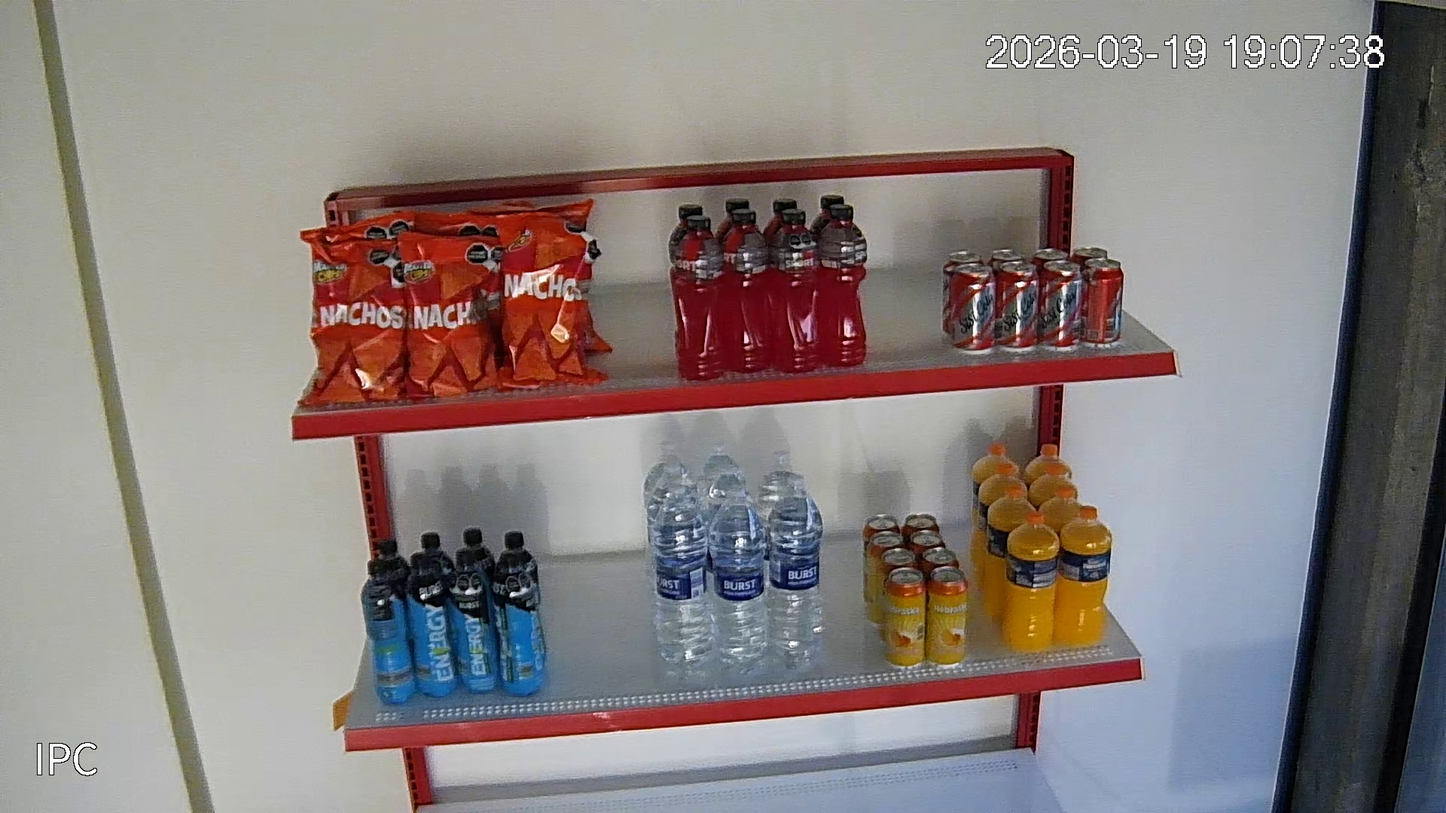agua_burst: (648, 483, 716, 663), (765, 475, 823, 665)
burst_energetica_roja: (817, 204, 867, 365), (763, 198, 797, 243), (716, 198, 748, 239)
burst_energy: (363, 560, 418, 703), (448, 549, 500, 692), (496, 531, 539, 589)
nachos_naturasol: (497, 213, 609, 389), (472, 198, 594, 229), (414, 211, 499, 237)
nebraska_mango: (885, 566, 926, 665), (867, 531, 903, 621), (909, 530, 946, 560)
sisi_cola: (951, 263, 995, 350), (1038, 260, 1082, 346), (1081, 259, 1124, 343)
sun_paradise_naranja: (984, 485, 1038, 616), (1038, 485, 1083, 535), (1025, 444, 1072, 487)
